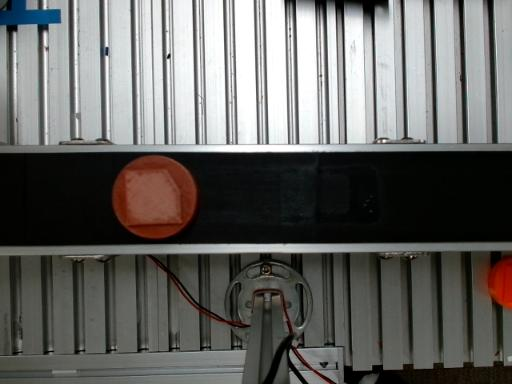Brown_Waper: (112, 156, 198, 238)
Not_Square: (123, 168, 183, 228)
